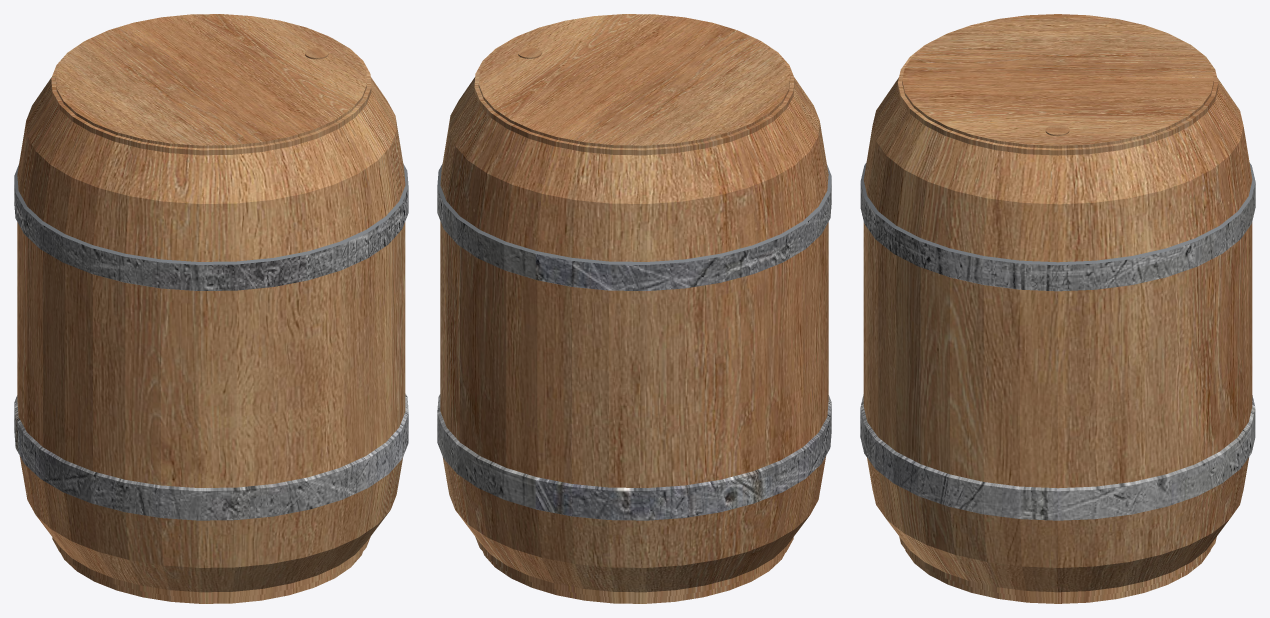
Rendered from barrel1.fbx.
3 renders of one model, left to right at view 1: azimuth 30°, elevation 25°; view 2: azimuth 150°, elevation 25°; view 3: azimuth 270°, elevation 25°, orthographic.
Parts seen in each view (by area): view 1: Cylinder; view 2: Cylinder; view 3: Cylinder.
Part boxes in pixels (x1,y1,x2,y2): Cylinder: (14,14,408,603); Cylinder: (437,14,831,603); Cylinder: (860,14,1255,603).
Bounding box in the file's own units: 336 × 431 × 336.
